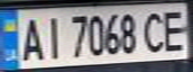0: (87, 11, 106, 57)
6: (103, 10, 124, 56)
7: (66, 11, 87, 60)
8: (118, 10, 142, 56)
A: (15, 14, 45, 62)
C: (139, 8, 172, 54)
E: (157, 7, 193, 53)
I: (39, 12, 66, 61)
